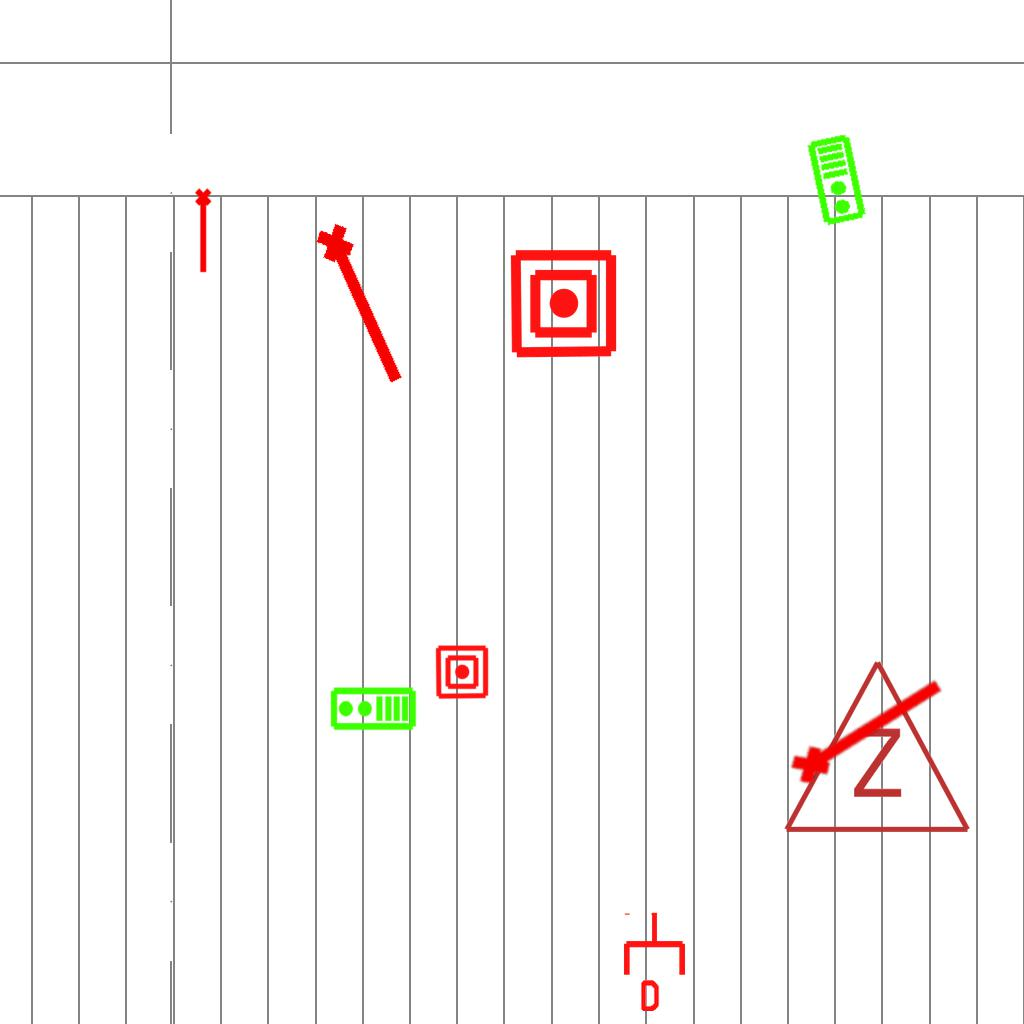ASR_Ansaugoeffnung: (780, 660, 954, 794), (308, 214, 422, 394), (193, 187, 216, 275)
Datenanschluss_einfach: (620, 911, 689, 1011)
Gegensprechanlage_mit_Video: (805, 132, 870, 228), (329, 686, 417, 733)
NAM-Nichtautomatischer_Melder: (507, 247, 620, 360), (434, 644, 490, 700)
Zimmersignalleuchte: (777, 647, 973, 847)
